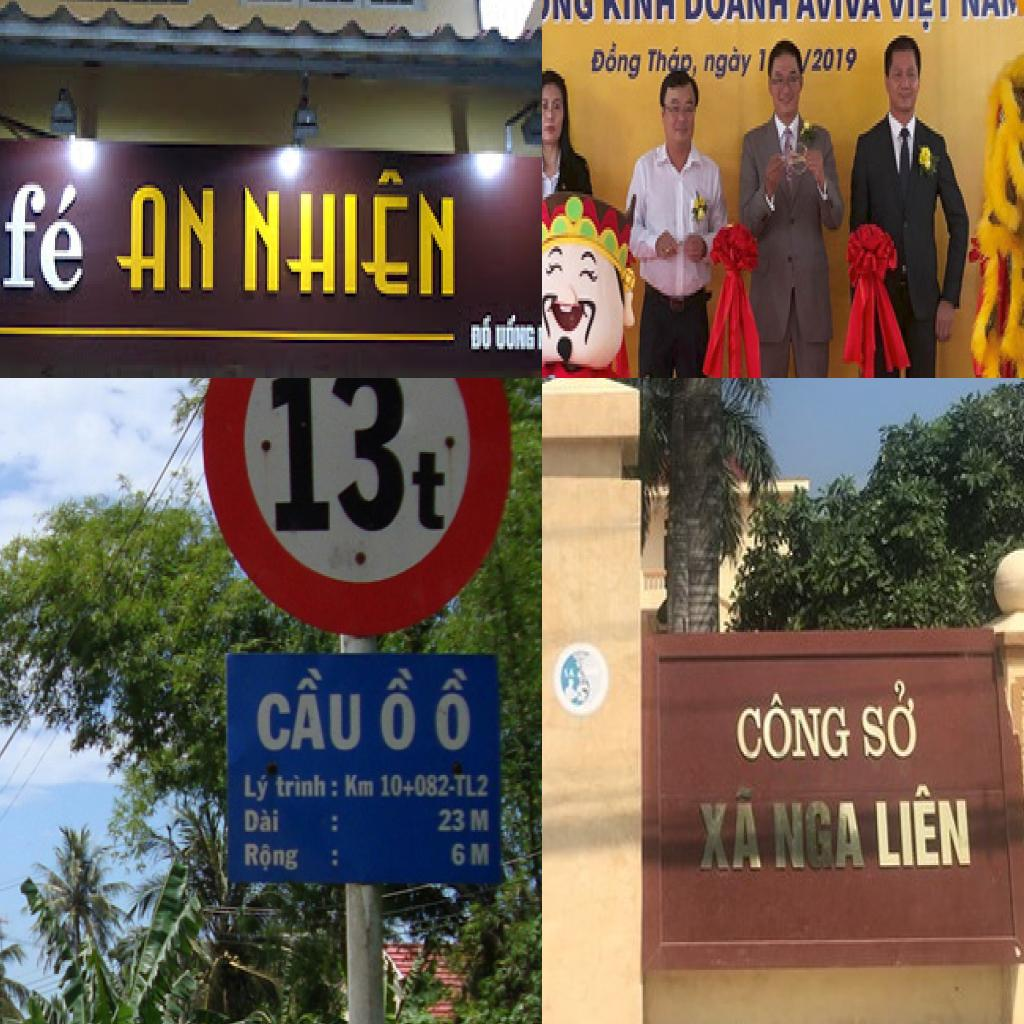text: (237, 172, 461, 306), (266, 378, 416, 540), (0, 151, 93, 306), (111, 175, 221, 306), (251, 663, 369, 761), (732, 692, 854, 764), (770, 799, 870, 871), (698, 788, 766, 874), (412, 434, 464, 541), (858, 679, 920, 765), (429, 661, 475, 755), (374, 663, 421, 749), (684, 0, 790, 27), (885, 0, 957, 38), (589, 38, 645, 85), (795, 0, 887, 24), (703, 46, 756, 85), (800, 44, 862, 76), (242, 840, 300, 873), (495, 312, 537, 356), (600, 0, 677, 24), (647, 44, 701, 76), (275, 771, 328, 801), (542, 0, 595, 29), (243, 805, 283, 836), (454, 771, 492, 801), (469, 312, 495, 353), (242, 771, 274, 803), (342, 773, 376, 803), (415, 773, 451, 801), (960, 0, 1005, 22), (377, 769, 406, 801), (435, 807, 467, 834), (469, 807, 492, 834), (756, 44, 773, 76), (450, 840, 467, 869), (402, 777, 416, 799)
